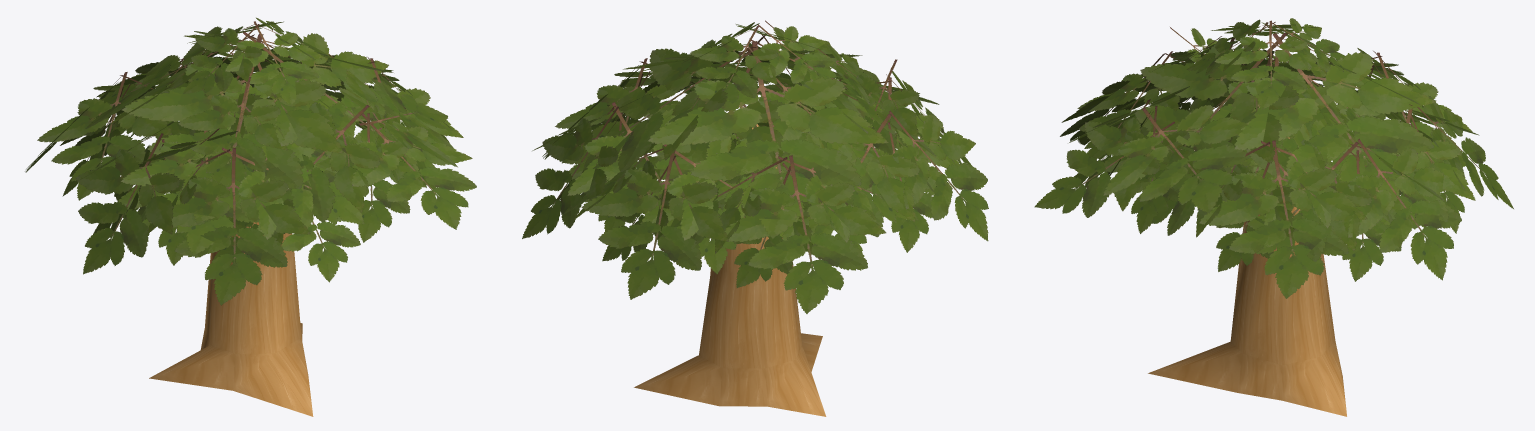
Rendered from Albero1.glb.
3 renders of one model, left to right at view 1: azimuth 30°, elevation 25°; view 2: azimuth 150°, elevation 25°; view 3: azimuth 270°, elevation 25°, orthographic.
Parts seen in each view (by area): view 1: Albero_01; view 2: Albero_01; view 3: Albero_01.
Part boxes in pixels (x1,y1,x2,y2): Albero_01: (25, 17, 476, 416); Albero_01: (522, 20, 988, 416); Albero_01: (1034, 18, 1513, 416).
Bounding box in the file's own units: 10.5 × 8.58 × 10.74.
Materials: 1 (1 with a texture image).
